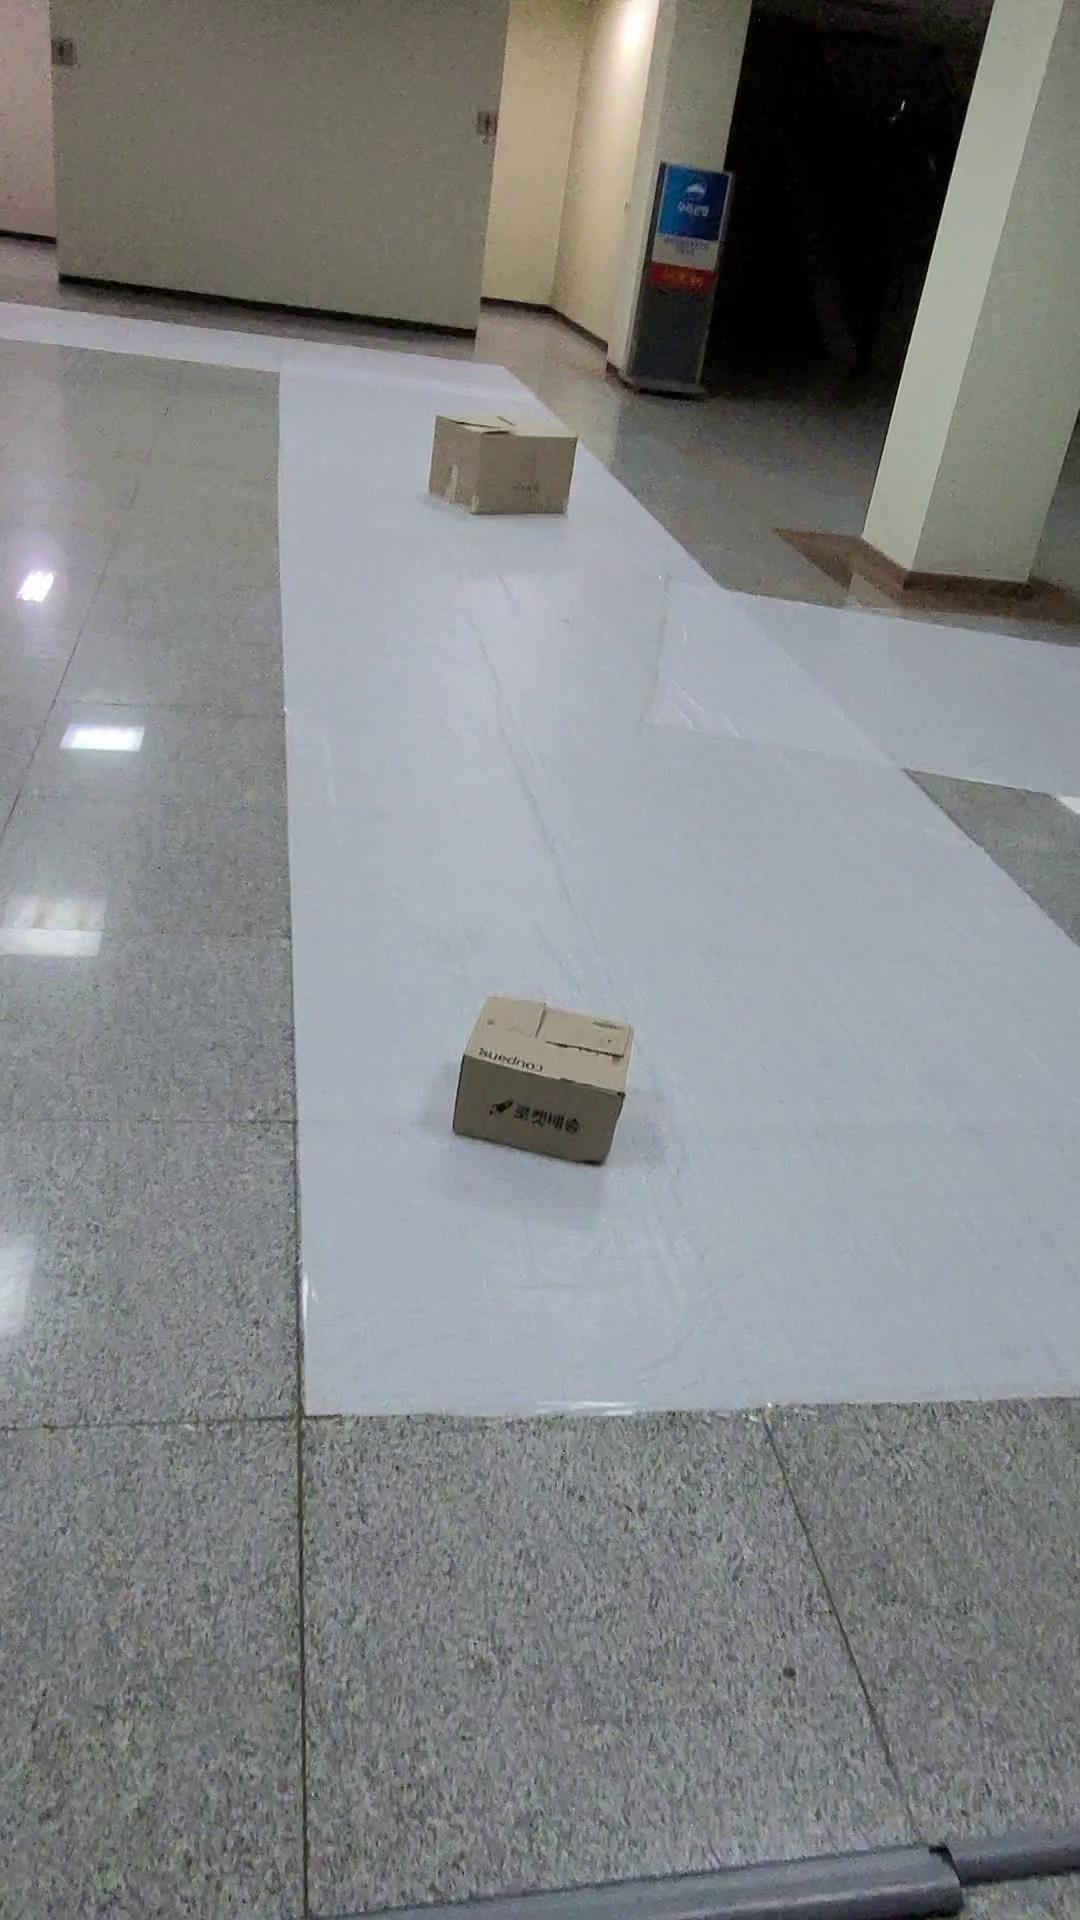Box: (436, 945, 682, 1205), (415, 396, 608, 545)
